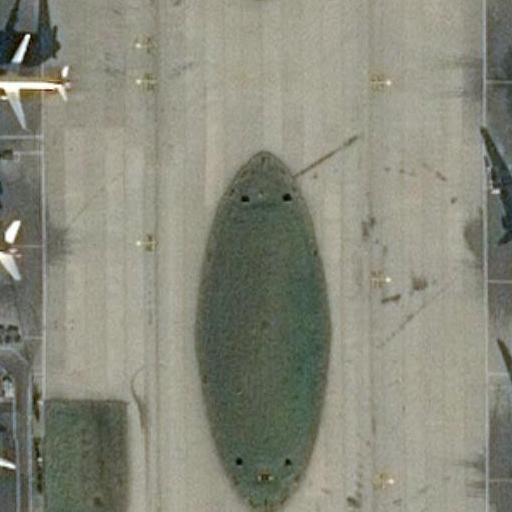Aircraft: (0, 32, 70, 130), (0, 163, 20, 331), (0, 402, 17, 512)
